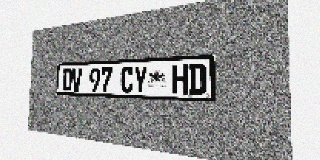7: (100, 67, 112, 92)
9: (89, 68, 101, 92)
C: (120, 66, 133, 93)
D: (188, 64, 206, 95), (62, 69, 72, 91)
H: (171, 64, 188, 94)
V: (72, 68, 82, 91)
Y: (133, 66, 147, 93)
